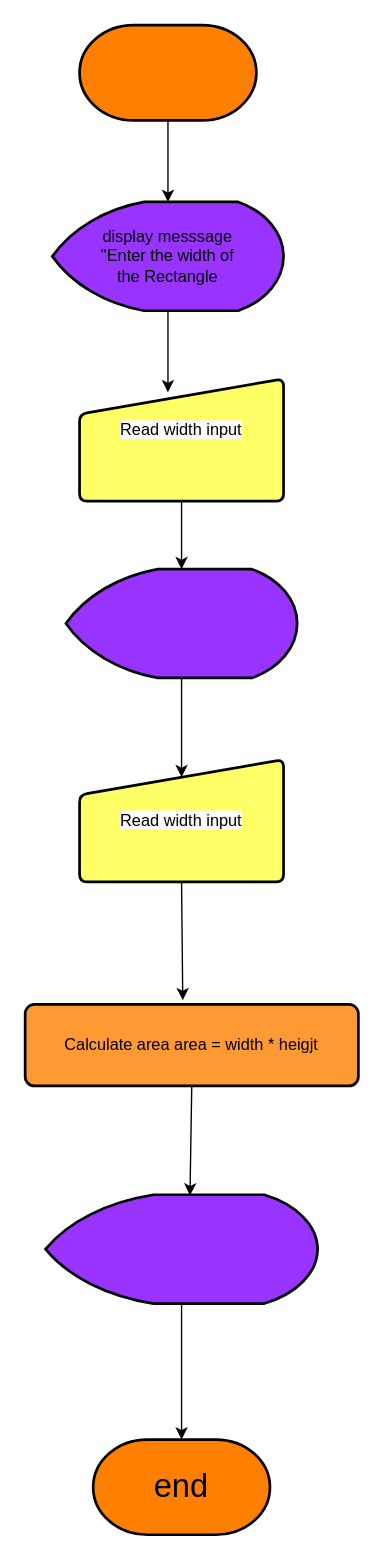
Image size: 382x1559. Some labels were removed from this diagram. The shapes that lost their labels are listed below. From the top down, each one's centre as x and y in pixels, then its label:
pixel 167 72: start
pixel 181 623: display message "Enter the height of the rectangle"
pixel 181 1248: display message "The area of the rectangle is",area
